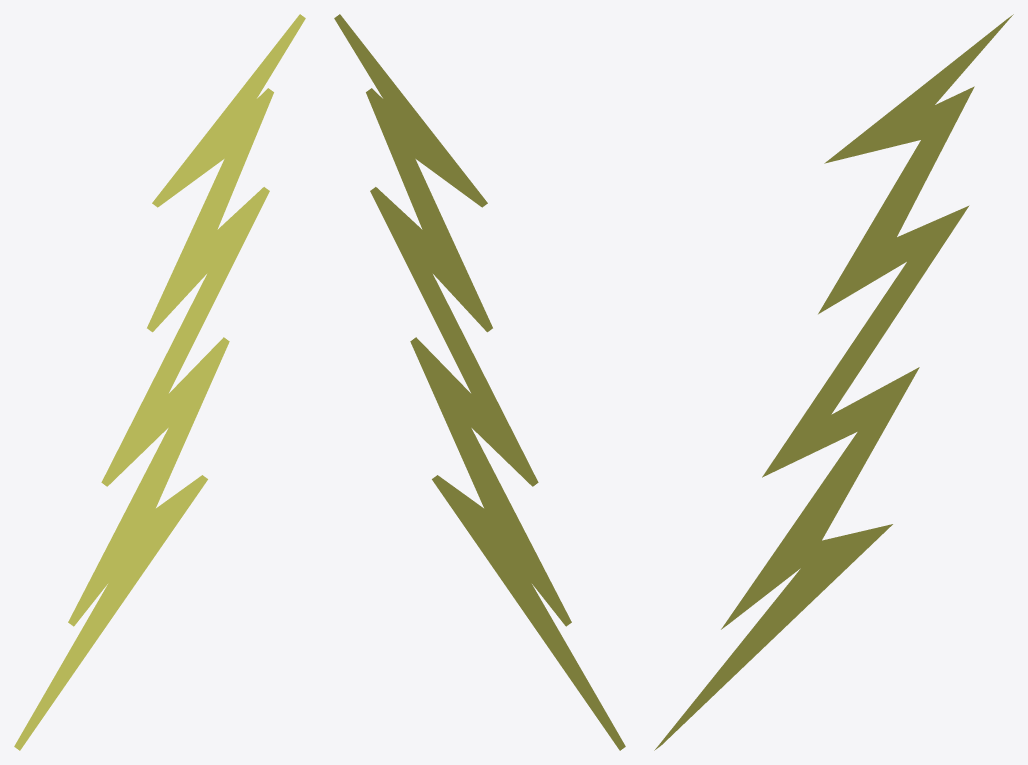
Rendered from Lightning.obj.
3 renders of one model, left to right at view 1: azimuth 30°, elevation 25°; view 2: azimuth 150°, elevation 25°; view 3: azimuth 330°, elevation 25°, orthographic. The views are drawn at different scales.
Visible parts, largest first — view 1: Lighning; view 2: Lighning; view 3: Lighning.
Boxes of the visible parts, x1,y1,x2,y2 form: Lighning: (14,14,305,750); Lighning: (334,14,625,750); Lighning: (654,14,1013,750).
Size of the model in its own units: 1.93 by 4.28 by 0.0693.
Materials: 1 (1 with a texture image).
